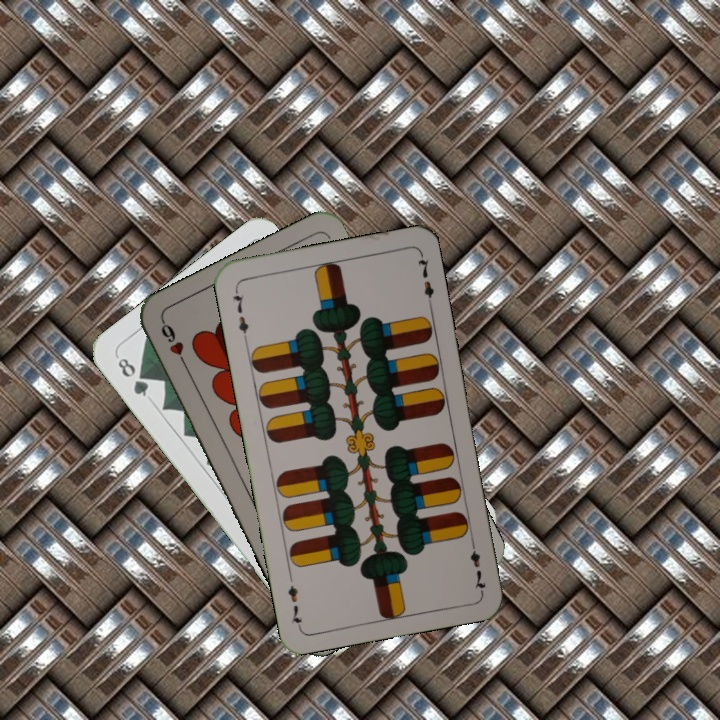E7: (228, 285, 251, 343), (466, 536, 489, 594)
G8: (113, 352, 152, 399)
H9: (157, 316, 191, 372)
